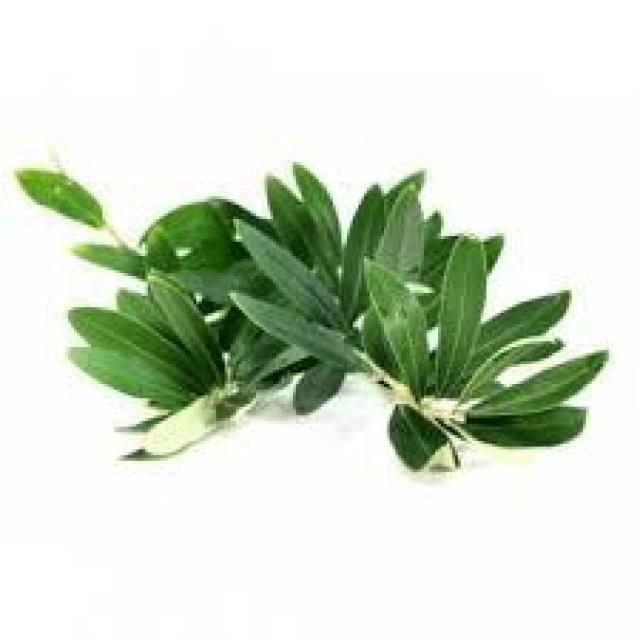Healthy: (469, 350, 606, 415), (230, 293, 353, 361)
